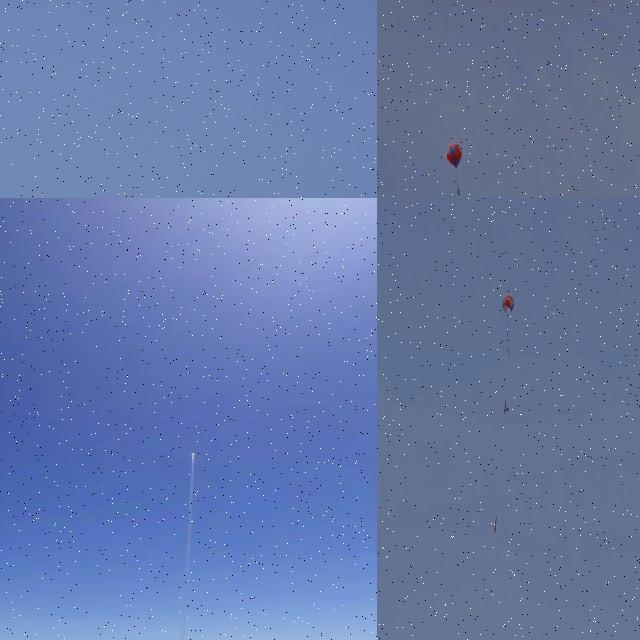Rocket: (493, 516, 497, 533), (192, 452, 196, 454)
